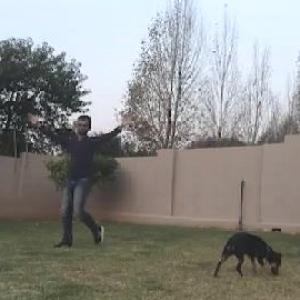takeoff: (48, 116, 167, 246)
